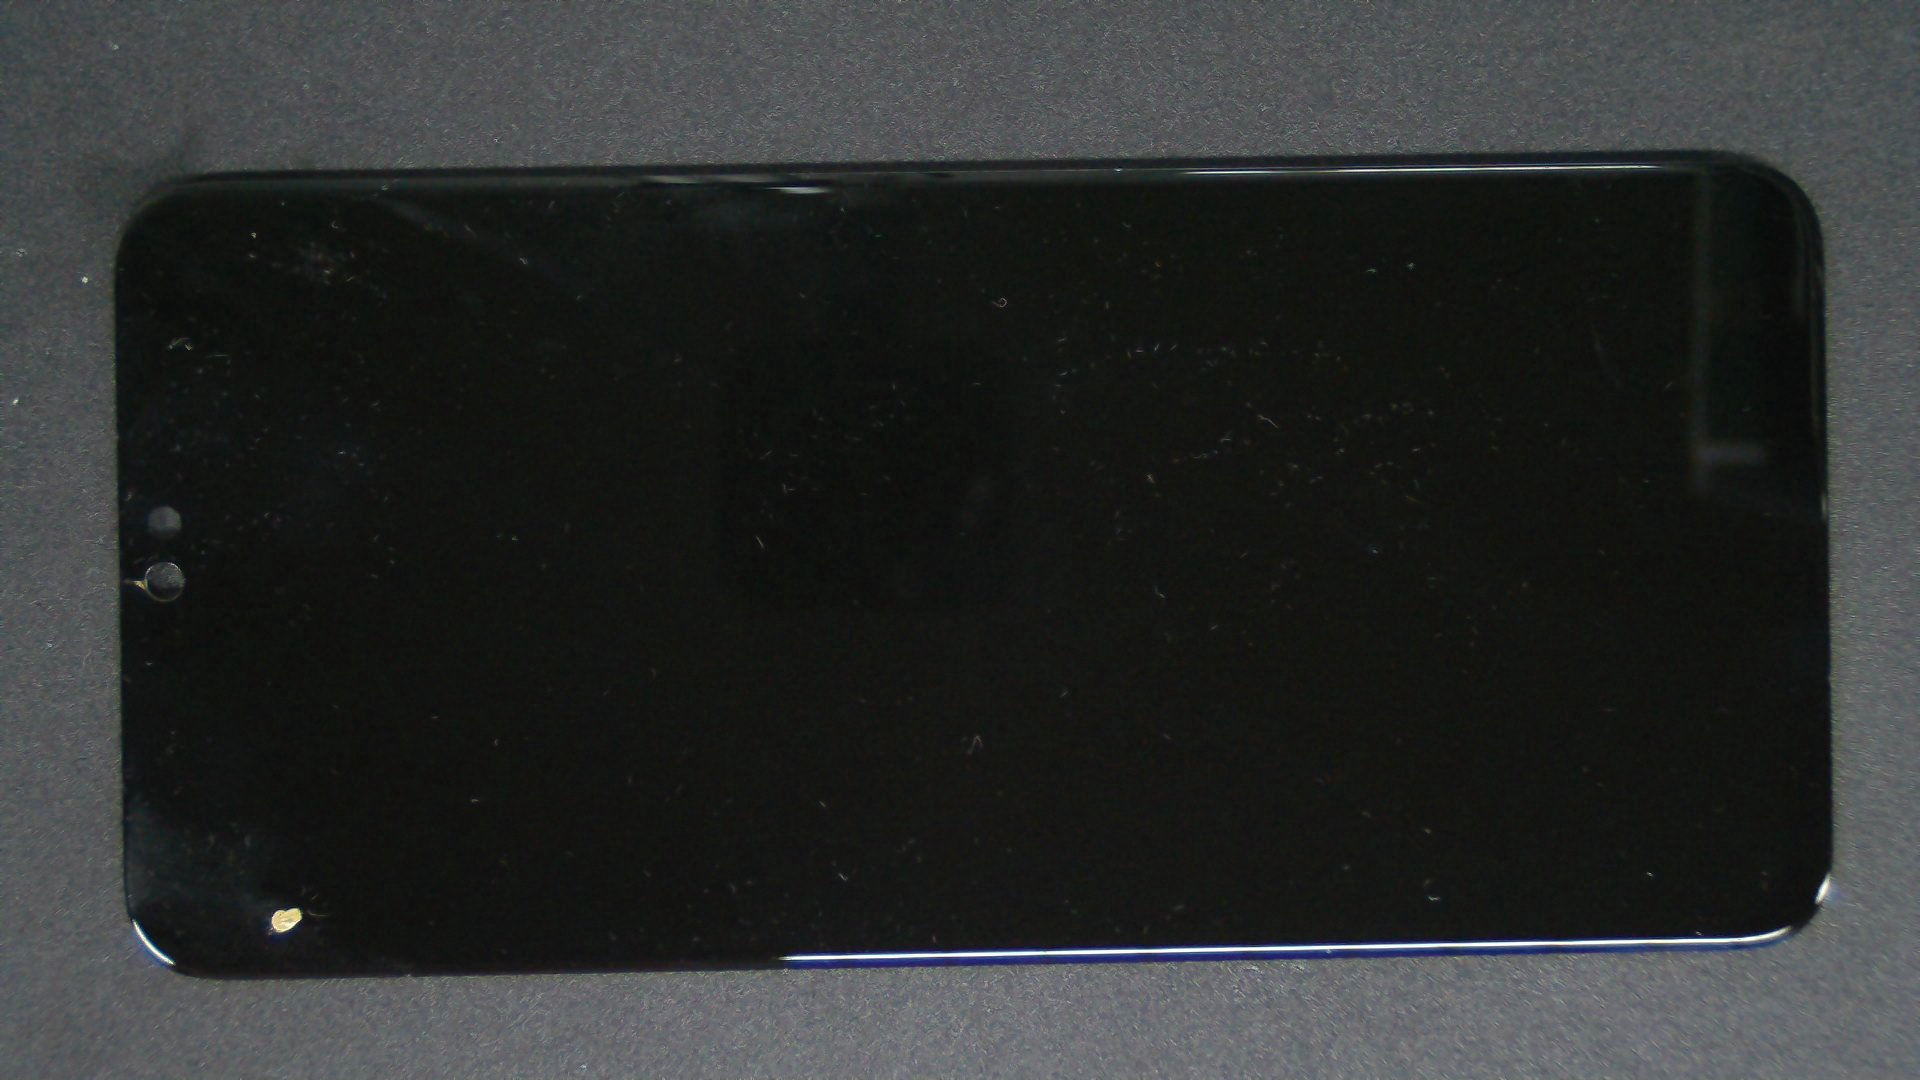oil: (146, 454, 436, 1080)
